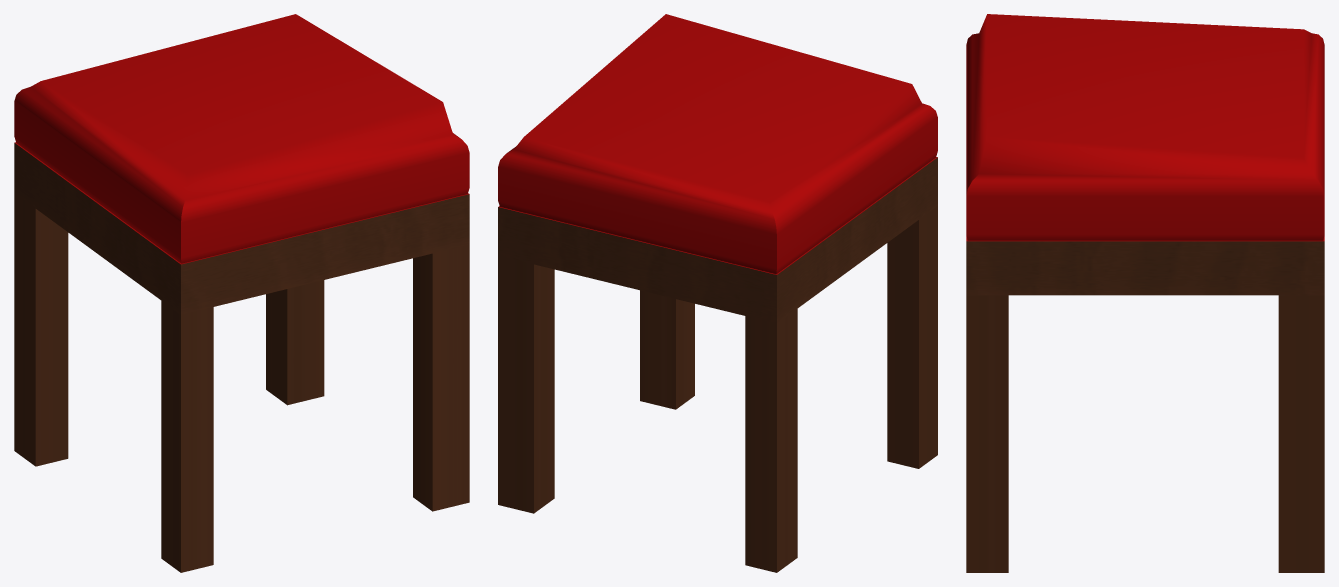
Rendered from benchtextured.fbx.
The picture shows the model from 3 angles, left to right: view 1: azimuth 30°, elevation 25°; view 2: azimuth 150°, elevation 25°; view 3: azimuth 270°, elevation 25°; orthographic projection. The views are drawn at different scales.
Visible parts, largest first — view 1: pCube3; view 2: pCube3; view 3: pCube3.
Boxes of the visible parts, <box> form: pCube3: <box>14,14,469,572</box>; pCube3: <box>498,14,937,572</box>; pCube3: <box>966,14,1324,572</box>.
Bounding box in the file's own units: 3 × 3.95 × 3.
